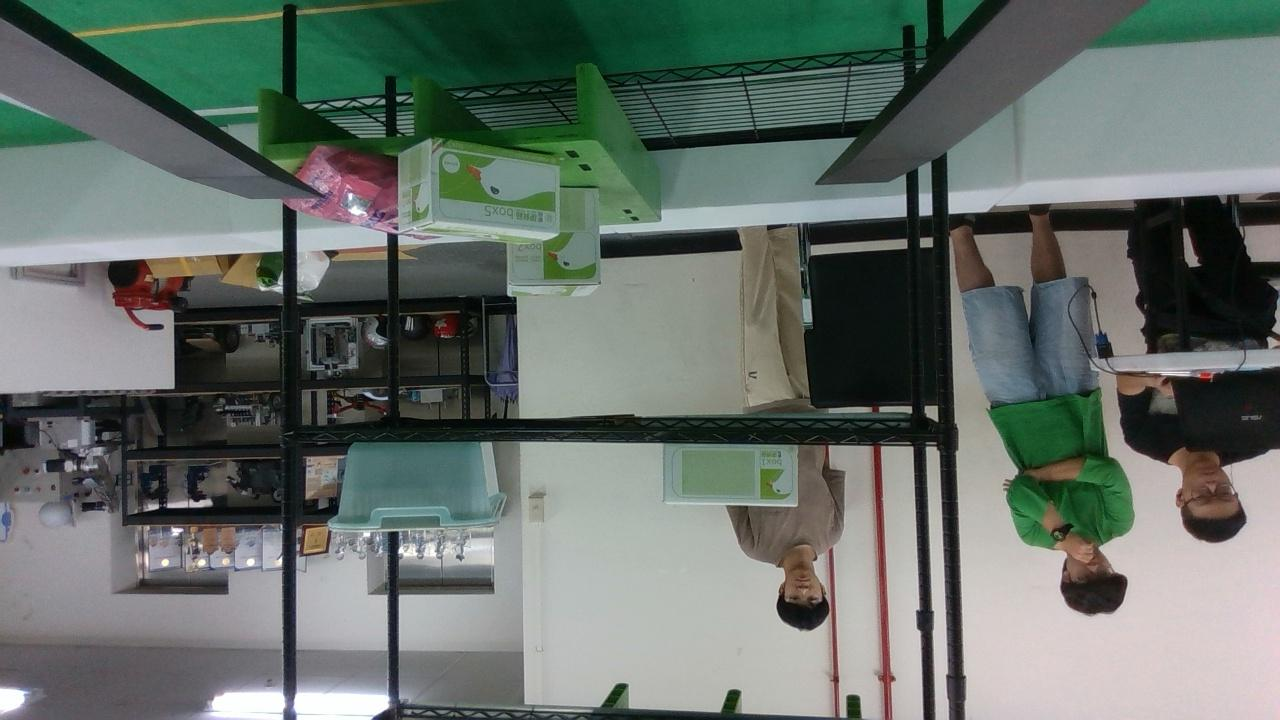Pallet: (258, 61, 596, 161)
